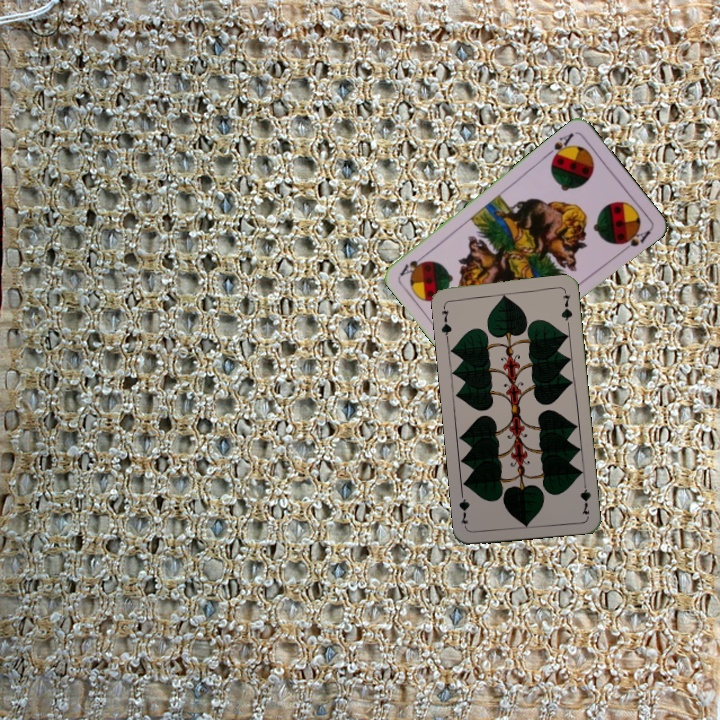G7: (576, 477, 594, 517), (437, 301, 454, 341)
SA: (543, 129, 576, 163)
